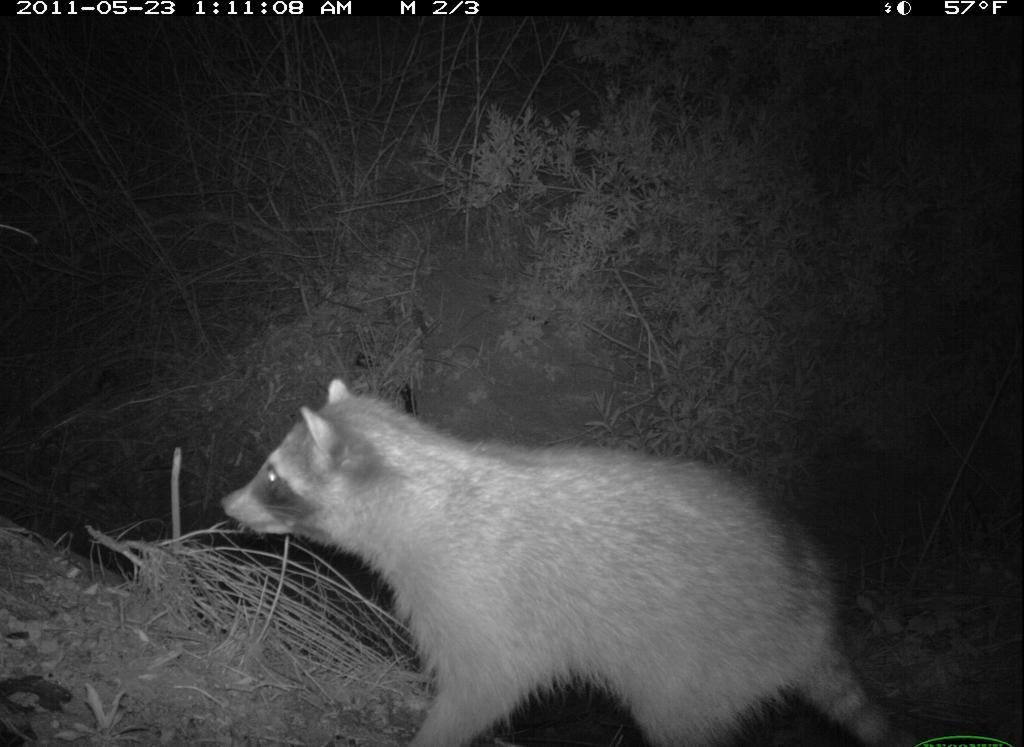raccoon: (213, 377, 921, 744)
